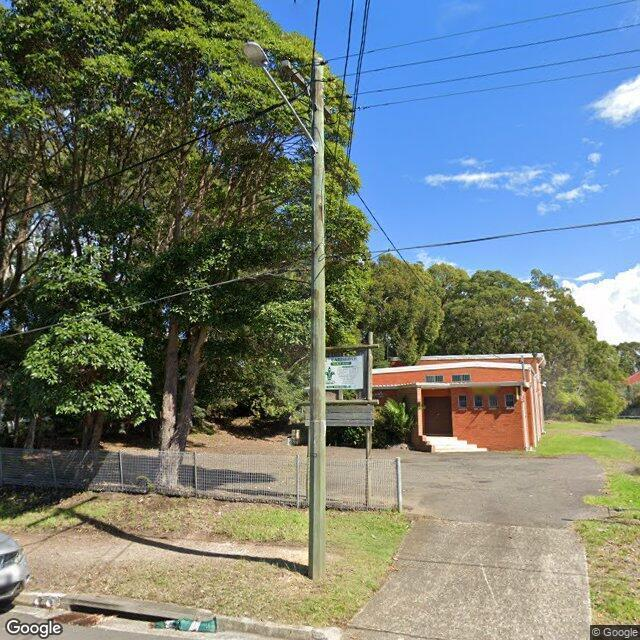crossarm: (279, 59, 311, 97)
streetlight: (242, 42, 318, 153)
timber-pole: (308, 57, 326, 580)
